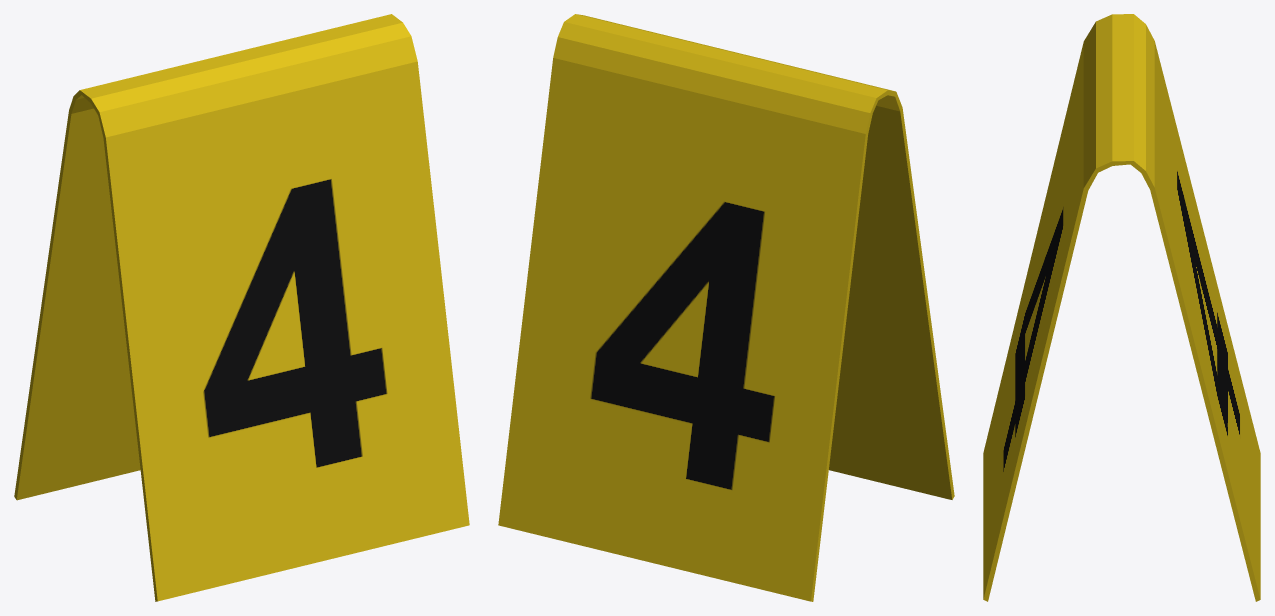
The model's file is ClueSign 4 NEW.fbx.
3 renders of one model, left to right at view 1: azimuth 30°, elevation 25°; view 2: azimuth 150°, elevation 25°; view 3: azimuth 270°, elevation 25°, orthographic. The views are drawn at different scales.
Parts seen in each view (by area): view 1: ClueSign 4; view 2: ClueSign 4; view 3: ClueSign 4.
Part boxes in pixels (x1,y1,x2,y2): ClueSign 4: (14, 14, 469, 601); ClueSign 4: (498, 14, 954, 601); ClueSign 4: (983, 14, 1260, 601).
Size of the model in its own units: 126 by 177 by 101.
